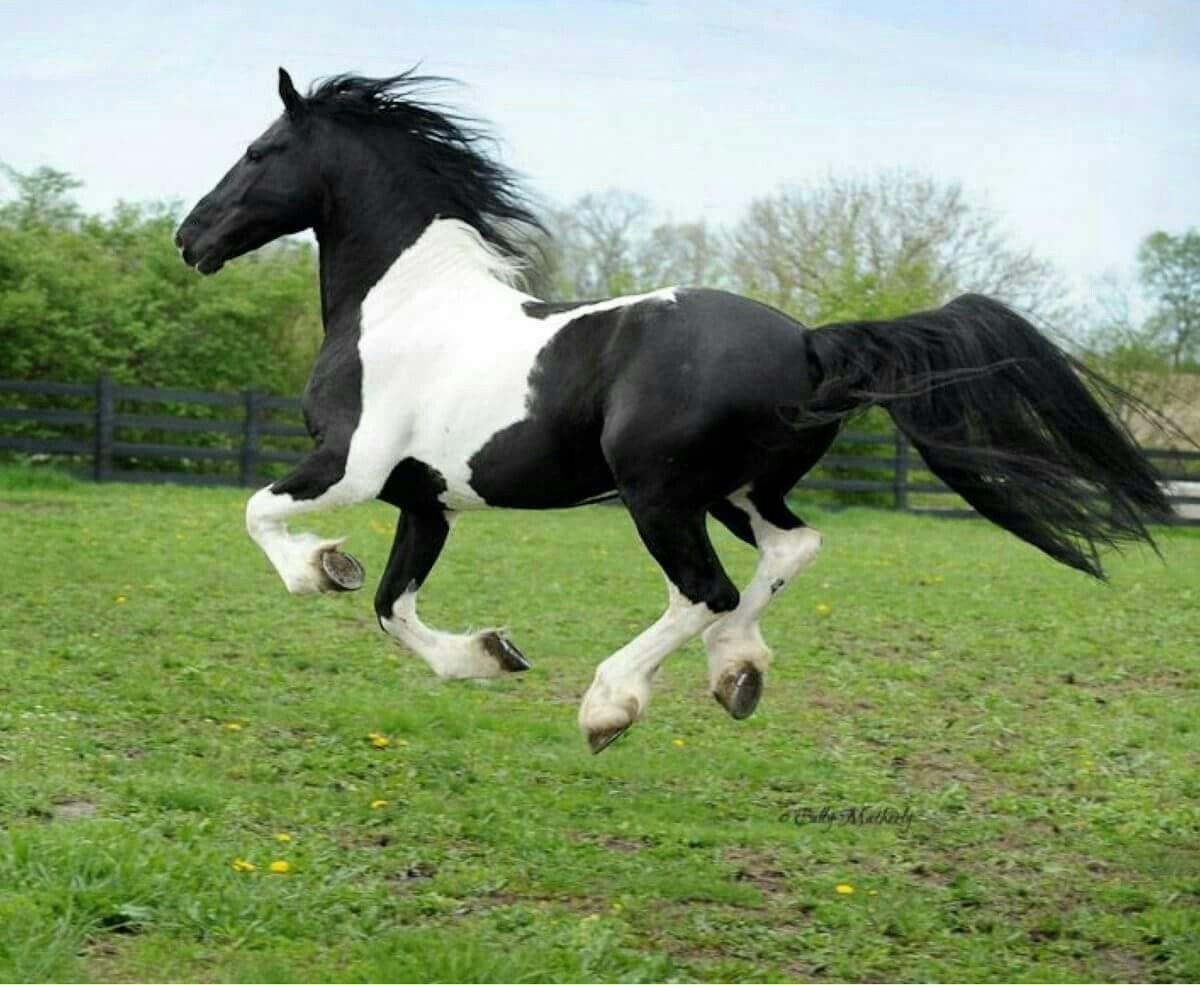horse: (165, 48, 1200, 768)
